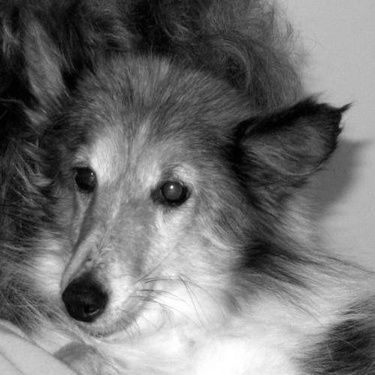dog: (5, 4, 360, 367)
